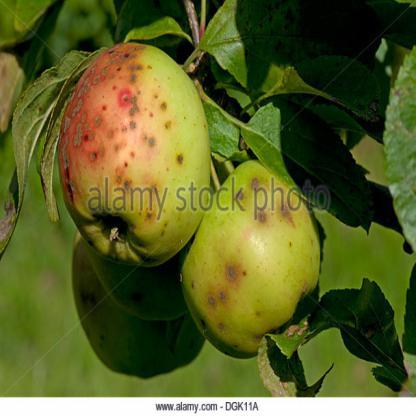Apple Scab Leaf: (240, 96, 380, 237), (196, 1, 366, 103)
